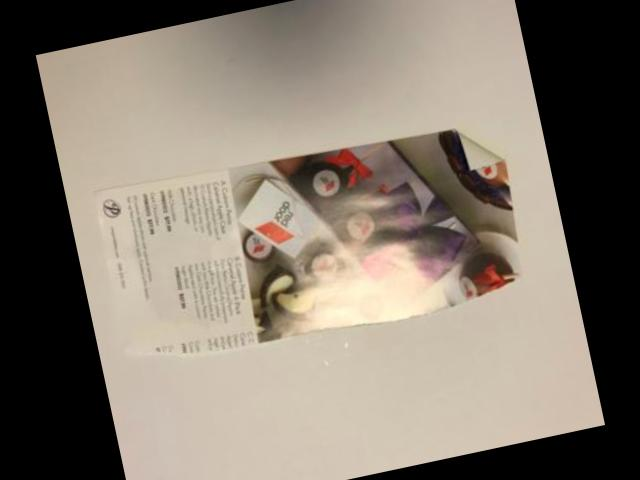cardboard paper: (94, 132, 519, 357)
